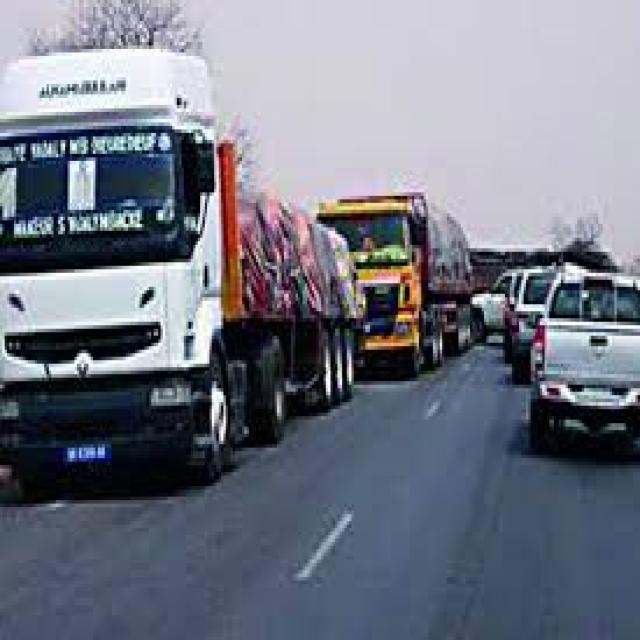camion: (1, 50, 357, 488), (318, 193, 472, 377)
particulier: (531, 268, 640, 457), (511, 268, 557, 384), (472, 271, 518, 337)
